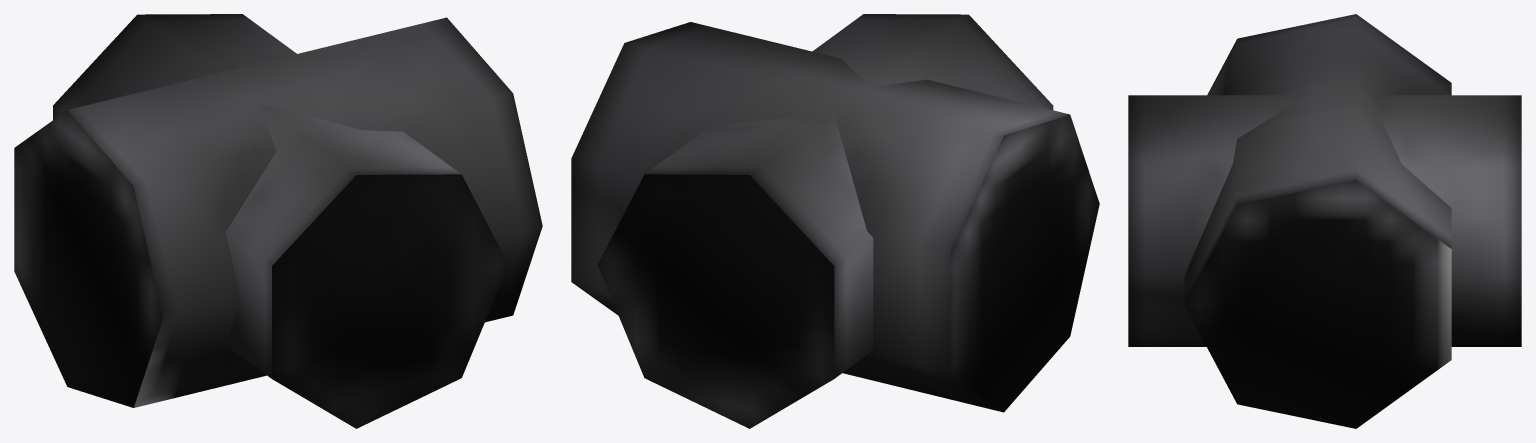
Rendered from l_talus.obj.
The picture shows the model from 3 angles, left to right: view 1: azimuth 30°, elevation 25°; view 2: azimuth 150°, elevation 25°; view 3: azimuth 270°, elevation 25°; orthographic projection. The views are drawn at different scales.
Visible parts, largest first — view 1: <dummy_root>; view 2: <dummy_root>; view 3: <dummy_root>.
Boxes of the visible parts, x1,y1,x2,y2 form: <dummy_root>: (14, 14, 542, 428); <dummy_root>: (571, 14, 1099, 428); <dummy_root>: (1128, 14, 1521, 428).
Bounding box in the file's own units: 0.0327 × 0.0228 × 0.0327.
Materials: 1 (1 with a texture image).
